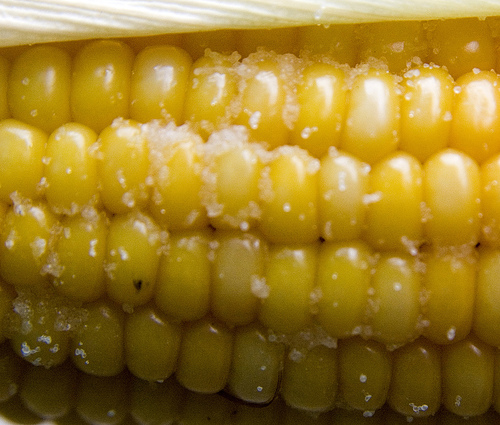corn: (1, 14, 496, 418)
